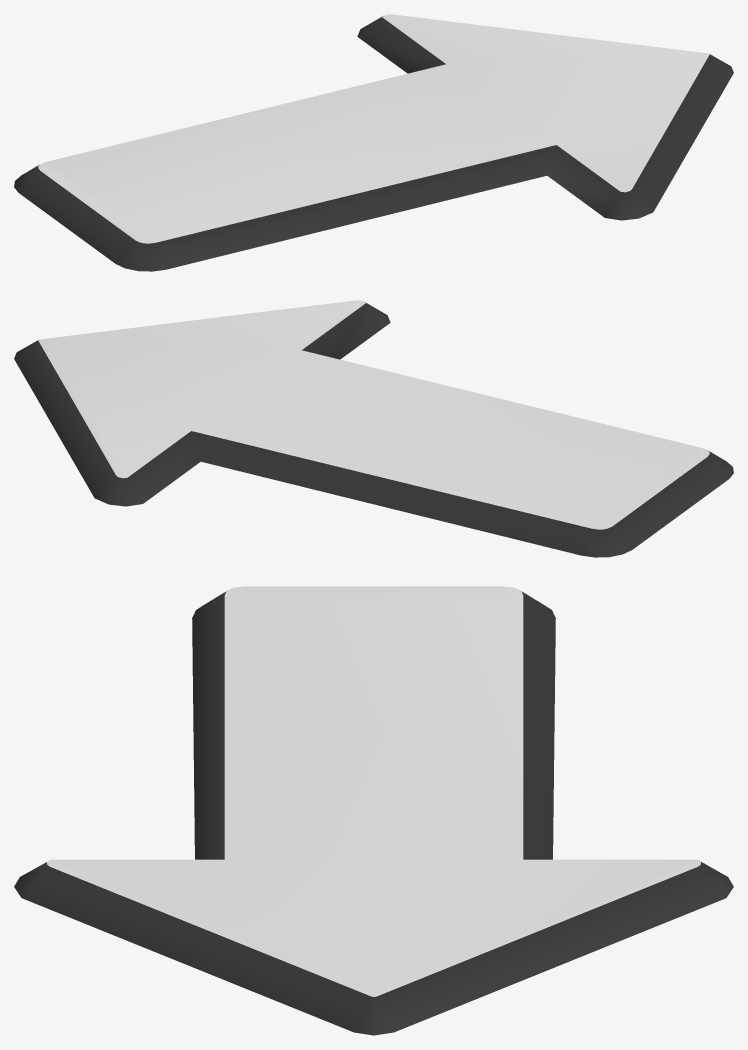
Rendered from Arrow.fbx.
The picture shows the model from 3 angles, top to bottom: view 1: azimuth 30°, elevation 25°; view 2: azimuth 150°, elevation 25°; view 3: azimuth 270°, elevation 25°; orthographic projection. The views are drawn at different scales.
Visible parts, largest first — view 1: Arrow; view 2: Arrow; view 3: Arrow.
Boxes of the visible parts, <box> form: Arrow: <box>14,14,733,271</box>; Arrow: <box>14,300,733,557</box>; Arrow: <box>14,586,733,1035</box>.
Size of the model in its own units: 2.74 by 0.0701 by 1.9.
Materials: 1 (1 with a texture image).
